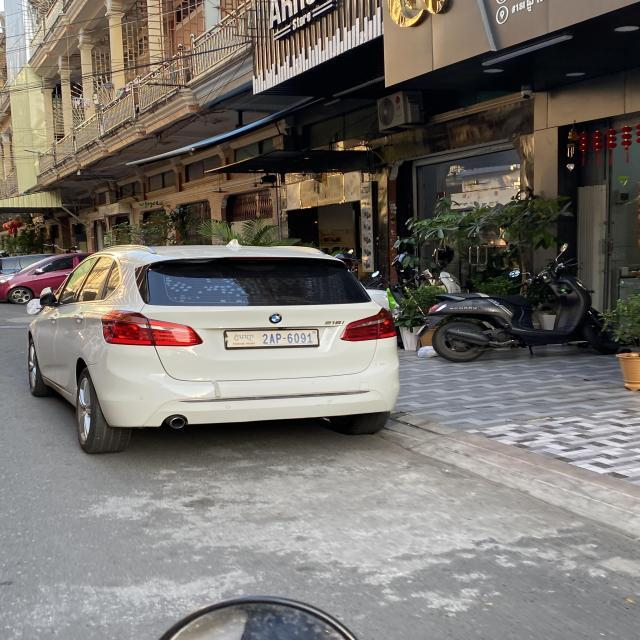Phnom_Penh: (233, 333, 256, 342)
